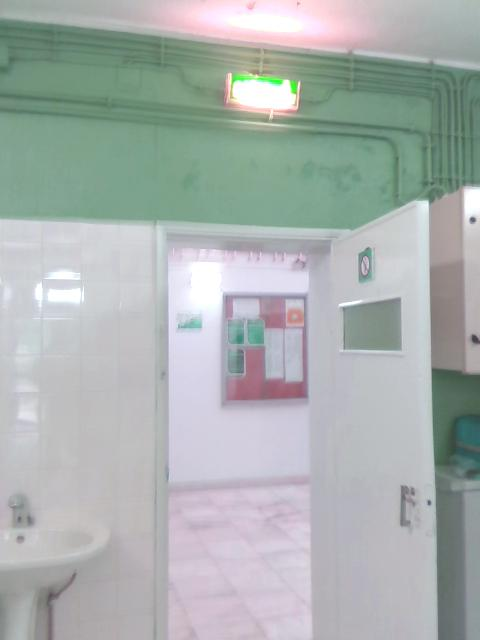open_door: (154, 219, 351, 638)
